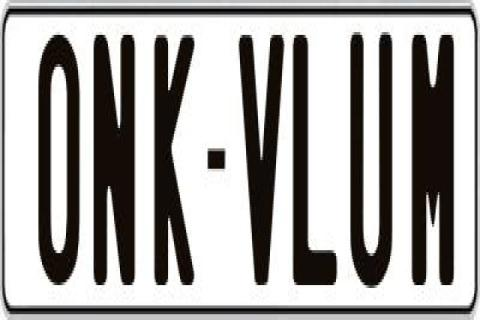0: (38, 35, 86, 285)
K: (154, 32, 196, 282)
L: (290, 26, 333, 282)
M: (409, 32, 456, 294)
N: (90, 29, 132, 294)
U: (350, 24, 398, 288)
V: (236, 26, 288, 294)
